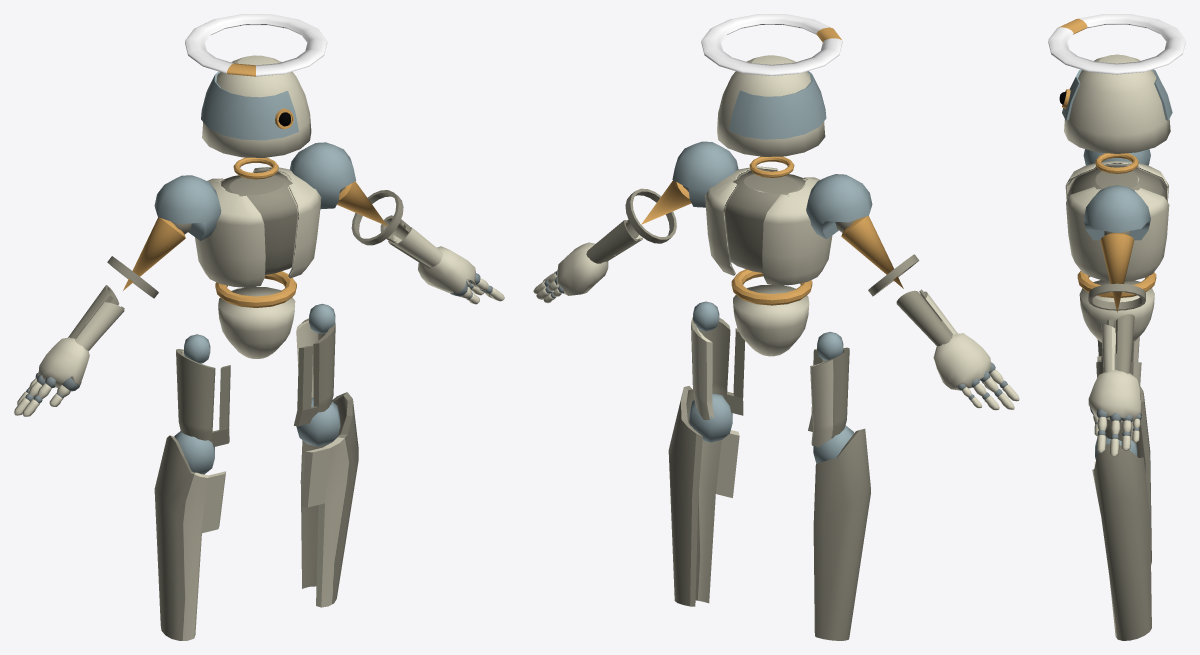
File: main.fbx
The picture shows the model from 3 angles, left to right: view 1: azimuth 30°, elevation 25°; view 2: azimuth 150°, elevation 25°; view 3: azimuth 270°, elevation 25°; orthographic projection. The views are drawn at different scales.
Parts seen in each view (by area): view 1: polySurface19, polySurface22, chestout, pSphere2 (×2), head, light, mask, polySurface18, chest, butt, polySurface23, pSphere25 (×2) (+6 smaller); view 2: polySurface19, polySurface22, chestout, pSphere2 (×2), head, chest, mask, pSphere25 (×2), polySurface23, light, butt, polySurface18 (+7 smaller); view 3: polySurface22, head, chestout, light, pSphere2 (×2), pSphere25, butt, chest, pCone1, polySurface24, pCylinder2, polySurface19 (+6 smaller).
Part boxes in pixels (x1=…): polySurface19: x1=154, y1=435, x2=225, y2=640; polySurface22: x1=300, y1=392, x2=358, y2=607; chestout: x1=195, y1=166, x2=321, y2=287; pSphere2 (×2): x1=154, y1=142, x2=356, y2=240; head: x1=202, y1=55, x2=311, y2=157; light: x1=185, y1=14, x2=327, y2=76; mask: x1=201, y1=71, x2=298, y2=140; polySurface18: x1=176, y1=349, x2=230, y2=446; chest: x1=221, y1=172, x2=297, y2=274; butt: x1=218, y1=286, x2=295, y2=358; polySurface23: x1=294, y1=318, x2=335, y2=426; pSphere25 (×2): x1=38, y1=246, x2=475, y2=387; polySurface19: x1=813, y1=428, x2=870, y2=640; polySurface22: x1=668, y1=386, x2=739, y2=606; chestout: x1=705, y1=166, x2=832, y2=285; pSphere2 (×2): x1=672, y1=141, x2=872, y2=239; head: x1=717, y1=55, x2=825, y2=156; chest: x1=725, y1=171, x2=805, y2=272; mask: x1=729, y1=71, x2=826, y2=139; pSphere25 (×2): x1=557, y1=242, x2=991, y2=390; polySurface23: x1=691, y1=317, x2=745, y2=420; light: x1=701, y1=14, x2=842, y2=75; butt: x1=733, y1=284, x2=809, y2=356; polySurface18: x1=808, y1=347, x2=849, y2=447; polySurface22: x1=1092, y1=443, x2=1151, y2=640; head: x1=1064, y1=54, x2=1170, y2=153; chestout: x1=1065, y1=161, x2=1169, y2=281; light: x1=1048, y1=14, x2=1185, y2=74; pSphere2 (×2): x1=1083, y1=149, x2=1150, y2=240; pSphere25: x1=1088, y1=369, x2=1141, y2=421; butt: x1=1079, y1=280, x2=1154, y2=342; chest: x1=1067, y1=165, x2=1166, y2=199; pCone1: x1=1100, y1=233, x2=1133, y2=312; polySurface24: x1=1107, y1=314, x2=1134, y2=373; pCylinder2: x1=1088, y1=283, x2=1145, y2=310; polySurface19: x1=1136, y1=386, x2=1151, y2=564.
Size of the model in its own units: 188 by 216 by 47.75.
1 material, 1 textured.
